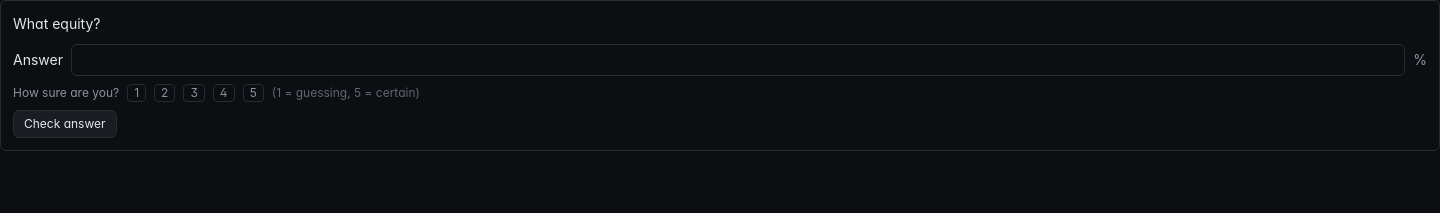
academy components › submits an answer with confidence and shows the graded explanation
Type "25" into the field labelled "Answer".
click(738, 60); type("25")  # box x1=71 y1=44 x2=1405 y2=76
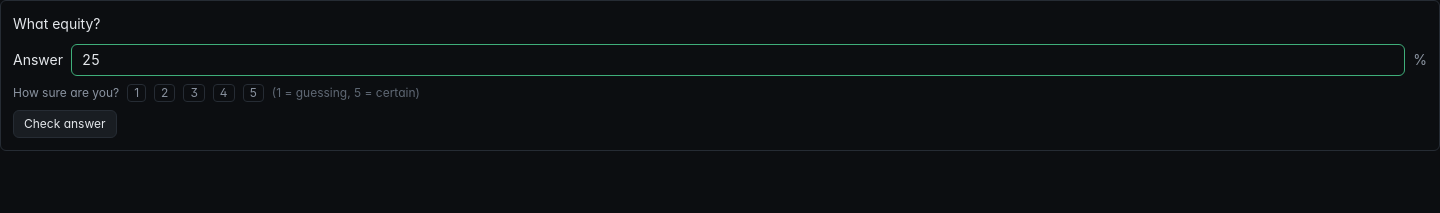
Click the button "4".
click(224, 93)  # box x1=213 y1=84 x2=235 y2=102
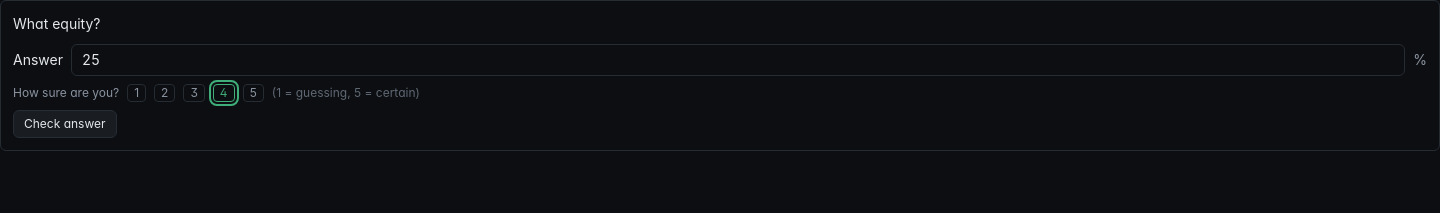
Click the button "Check answer".
click(65, 124)  # box x1=13 y1=110 x2=117 y2=138
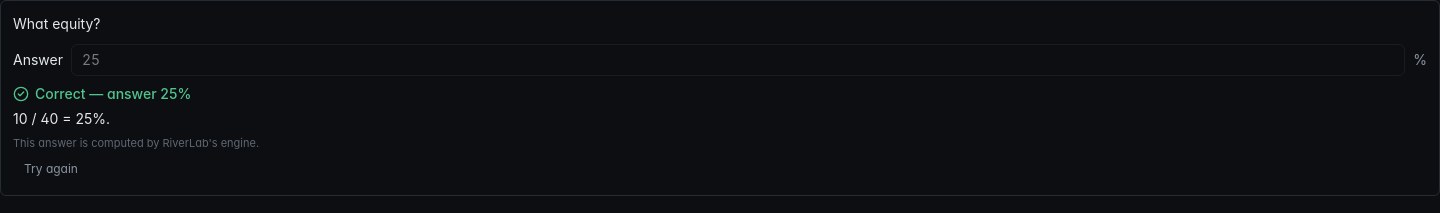
Expected: the text "Correct — answer 25%" is shown, x1=13 y1=85 x2=191 y2=102
Expected: the text "10 / 40 = 25%." is shown, x1=13 y1=110 x2=110 y2=127
Expected: the text "This answer is computed by RiverLab's engine." is shown, x1=13 y1=136 x2=259 y2=150
